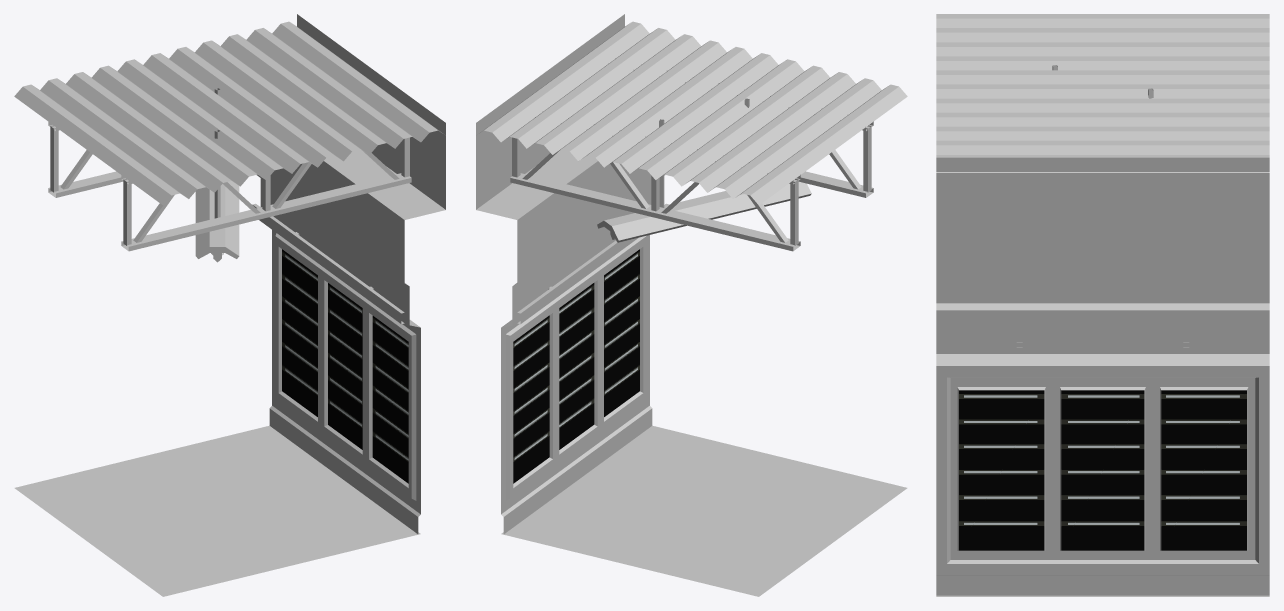
File: Store_Build_Wall_R_0.dae
3 views of the same model, side by side, from view 1: azimuth 30°, elevation 25°; view 2: azimuth 150°, elevation 25°; view 3: azimuth 270°, elevation 25° (orthographic). The views are drawn at different scales.
Parts seen in each view (by area): view 1: Store_Wall_R; view 2: Store_Wall_R; view 3: Store_Wall_R.
Boxes of the visible parts, left/top/right/bottom form: Store_Wall_R: left=14, top=14, right=445, bottom=596; Store_Wall_R: left=476, top=14, right=907, bottom=596; Store_Wall_R: left=936, top=14, right=1269, bottom=596.
Bounding box in the file's own units: 2.2 × 2 × 3.
